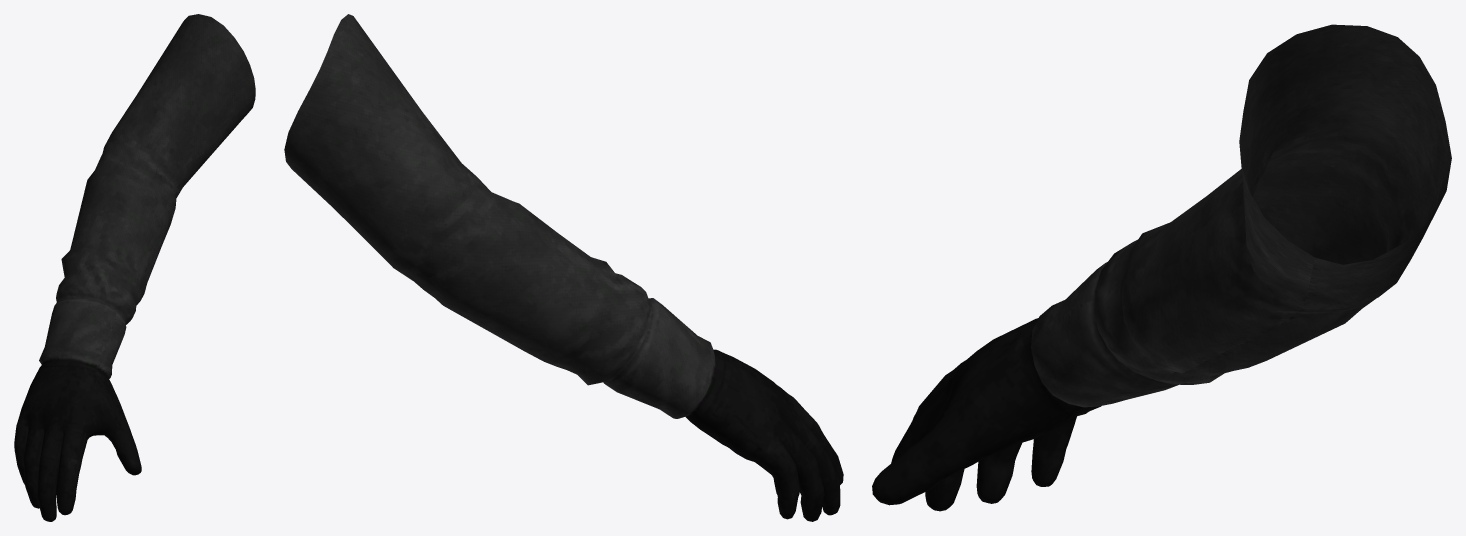
File: fp_arm.glb
3 renders of one model, left to right at view 1: azimuth 30°, elevation 25°; view 2: azimuth 150°, elevation 25°; view 3: azimuth 270°, elevation 25°, orthographic. The views are drawn at different scales.
Parts seen in each view (by area): view 1: Object_2; view 2: Object_2; view 3: Object_2.
Boxes of the visible parts, box(x1,y1,x2,y2) form: Object_2: box(14, 14, 255, 521); Object_2: box(284, 14, 843, 521); Object_2: box(872, 24, 1451, 511).
Size of the model in its own units: 0.4134 by 0.4976 by 0.3542.
Materials: 1 (1 with a texture image).
